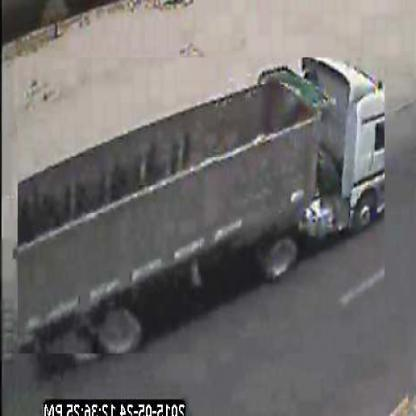truck: (18, 58, 385, 356)
